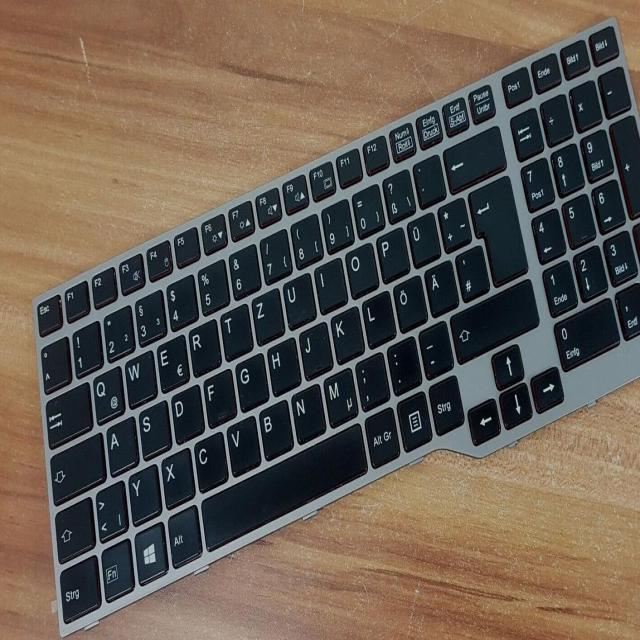0: (351, 180, 384, 234)
1: (71, 319, 102, 375)
2: (102, 302, 134, 356)
3: (133, 286, 166, 341)
4: (165, 271, 197, 326)
5: (196, 258, 229, 311)
6: (228, 241, 260, 294)
7: (260, 225, 292, 281)
8: (290, 210, 322, 264)
9: (320, 195, 353, 249)
a: (105, 415, 137, 473)
accent: (412, 152, 445, 203)
ae: (422, 257, 458, 314)
alt-left: (166, 503, 201, 565)
altgr-right: (364, 405, 400, 463)
b: (257, 396, 292, 457)
c: (192, 430, 227, 491)
caret: (39, 335, 70, 391)
comma: (353, 349, 388, 408)
d: (170, 382, 203, 441)
del: (442, 125, 505, 190)
e: (155, 331, 188, 389)
enter: (467, 174, 527, 280)
f: (202, 367, 235, 425)
g: (234, 351, 268, 409)
h: (266, 335, 300, 393)
hash: (454, 243, 489, 298)
i: (313, 253, 346, 310)
j: (298, 319, 332, 376)
k: (329, 303, 364, 360)
keyboard: (23, 1, 640, 640)
l: (360, 287, 395, 344)
less: (94, 477, 127, 539)
m: (322, 365, 356, 423)
minus: (416, 318, 452, 375)
n: (290, 381, 325, 441)
o: (343, 239, 377, 295)
oe: (392, 272, 427, 328)
p: (374, 223, 409, 280)
plus: (435, 193, 470, 248)
point: (385, 333, 420, 390)
q: (91, 363, 123, 422)
r: (187, 316, 221, 374)
s: (136, 398, 170, 457)
shift-left: (54, 494, 94, 562)
shift-lock: (49, 429, 105, 503)
shift-right: (448, 277, 537, 357)
space: (201, 420, 366, 551)
ss: (381, 166, 414, 219)
strg-left: (57, 553, 100, 623)
strg-right: (427, 373, 463, 432)
t: (219, 301, 252, 358)
tab: (45, 379, 92, 448)
u: (281, 270, 315, 327)
ue: (405, 208, 440, 264)
v: (226, 413, 260, 473)
w: (123, 347, 156, 406)
x: (160, 446, 193, 507)
y: (126, 462, 160, 523)
z: (250, 285, 283, 343)
